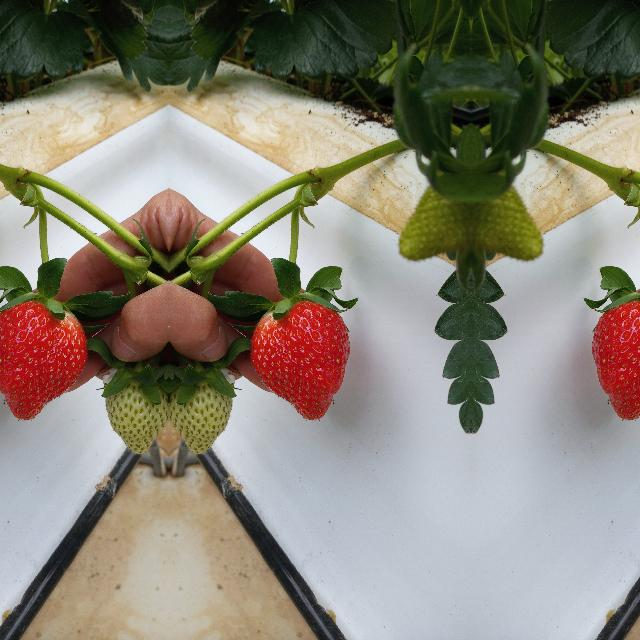Health_100: (248, 300, 349, 420), (0, 299, 87, 420), (591, 299, 640, 420)
